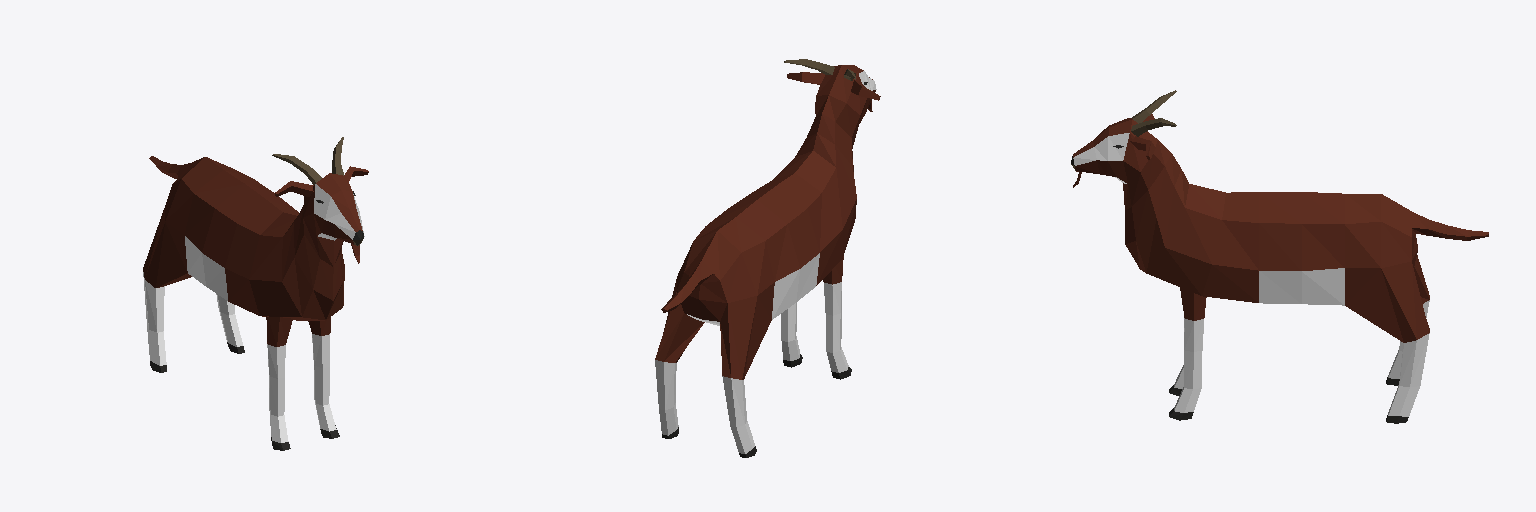
The picture shows the model from 3 angles: view 1: azimuth 30°, elevation 25°; view 2: azimuth 150°, elevation 25°; view 3: azimuth 270°, elevation 25°; orthographic projection.
Parts seen in each view (by area): view 1: Geo_Goat; view 2: Geo_Goat; view 3: Geo_Goat.
Boxes of the visible parts, <box> form: Geo_Goat: <box>143,137,368,450</box>; Geo_Goat: <box>655,59,880,457</box>; Geo_Goat: <box>1071,90,1488,423</box>.
Size of the model in its own units: 51.84 by 159 by 203.
Materials: 1 (1 with a texture image).